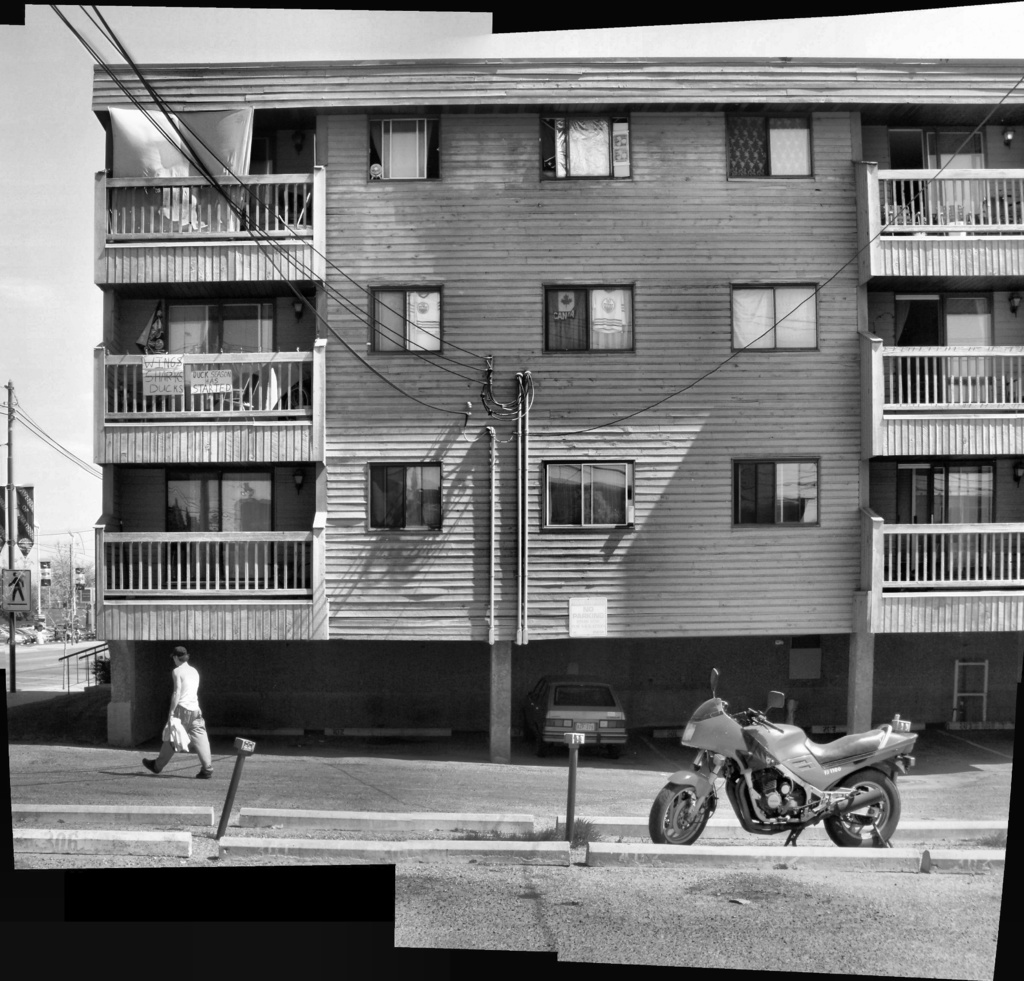Car: (523, 674, 630, 751)
